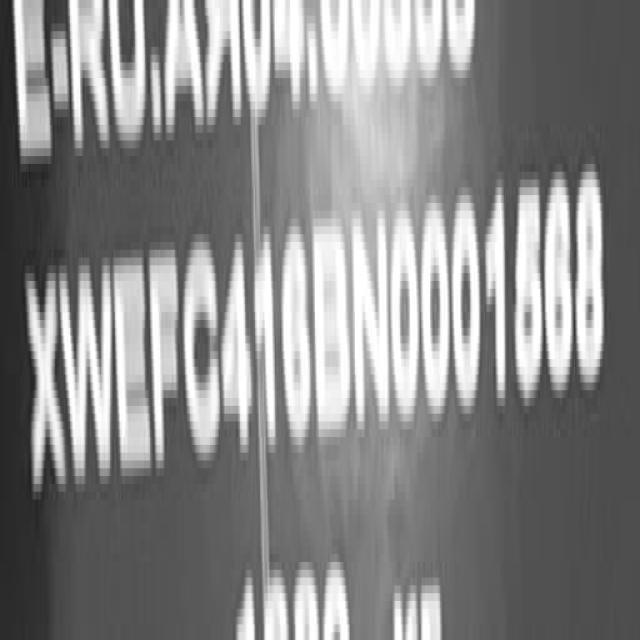0: (450, 188, 480, 421), (421, 197, 449, 427), (393, 208, 421, 428)
1: (485, 178, 508, 415), (257, 229, 278, 461)
4: (222, 233, 251, 466)
5: (513, 159, 544, 422)
6: (278, 220, 313, 474), (544, 170, 575, 399)
8: (573, 153, 606, 396)
B: (315, 214, 349, 446)
C: (183, 226, 221, 471)
E: (113, 248, 150, 482)
F: (150, 246, 179, 483)
N: (351, 197, 392, 445)
W: (64, 260, 115, 492)
X: (30, 268, 65, 503)
